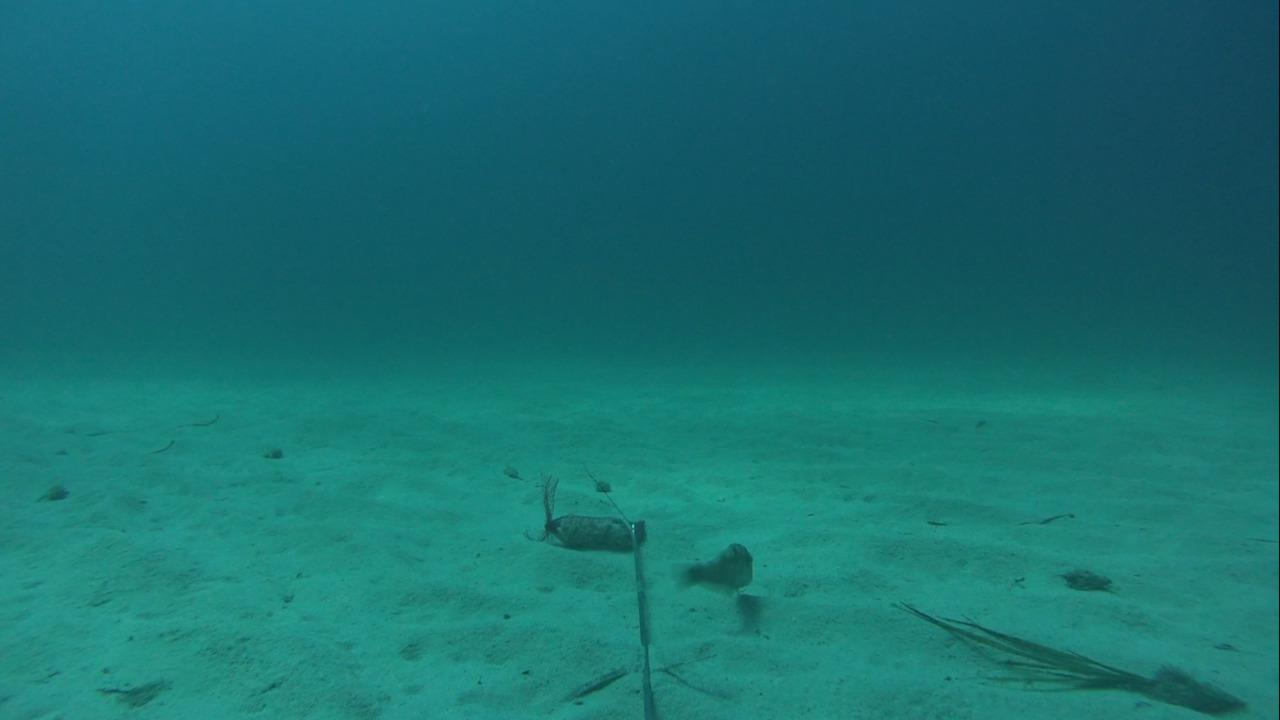raor: (671, 538, 755, 598)
